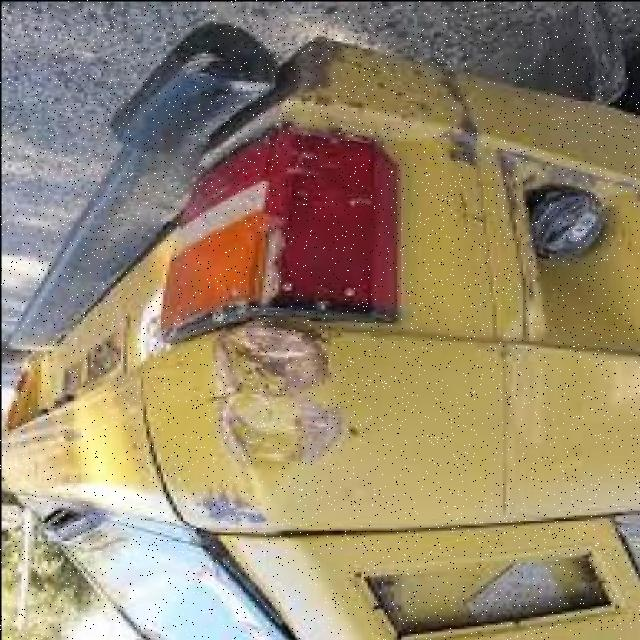damage: (501, 142, 640, 343), (206, 41, 439, 158), (202, 316, 366, 477), (434, 59, 486, 166), (191, 482, 276, 533)
